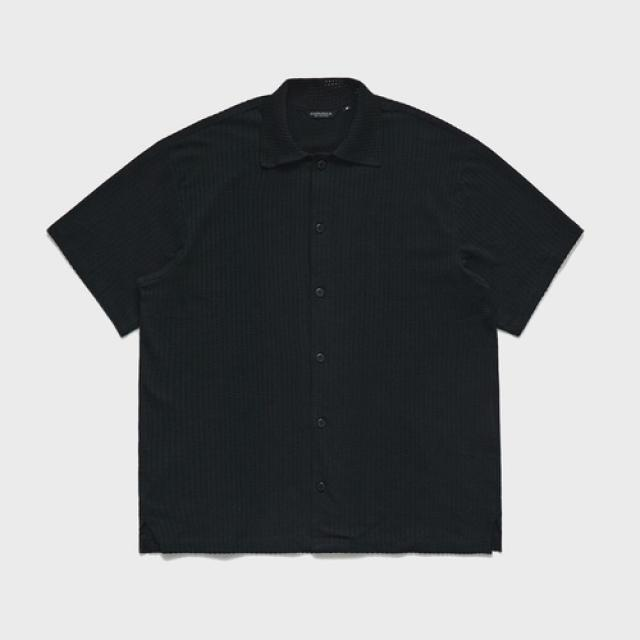dress: (47, 75, 589, 548)
